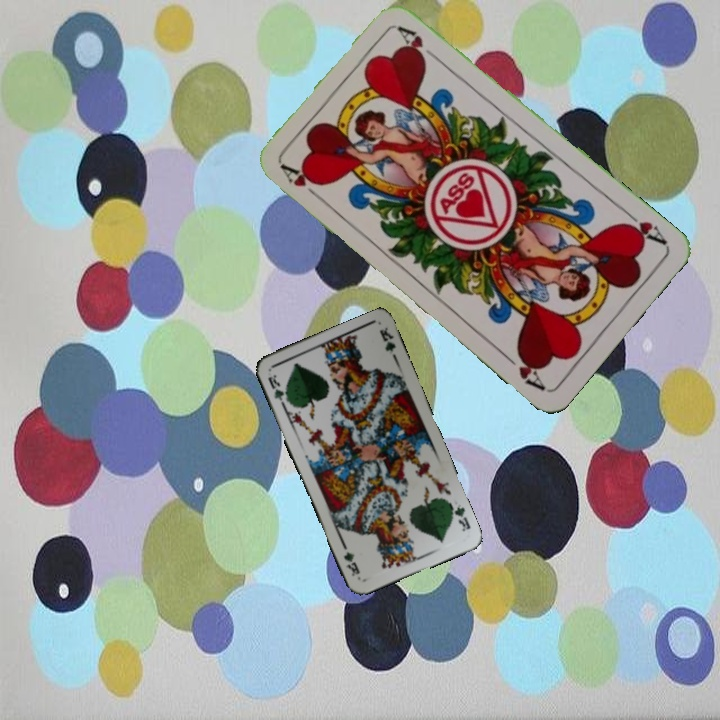GK: (264, 370, 292, 408), (444, 498, 473, 534)
HA: (617, 205, 670, 248), (277, 161, 327, 205)
